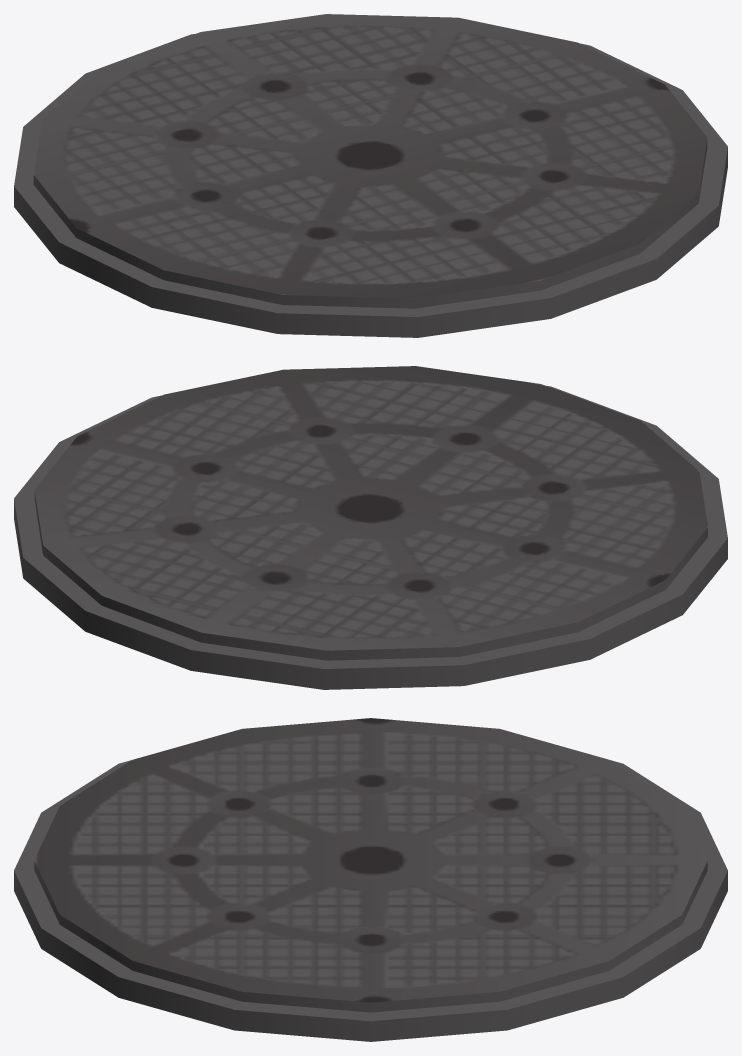
The model's file is obj_manhole_closed.fbx.
3 renders of one model, top to bottom at view 1: azimuth 30°, elevation 25°; view 2: azimuth 150°, elevation 25°; view 3: azimuth 270°, elevation 25°, orthographic.
Parts seen in each view (by area): view 1: obj_manhole_closed; view 2: obj_manhole_closed; view 3: obj_manhole_closed.
Part boxes in pixels (x1=…): obj_manhole_closed: x1=14, y1=14, x2=727, y2=337; obj_manhole_closed: x1=14, y1=366, x2=727, y2=689; obj_manhole_closed: x1=14, y1=718, x2=727, y2=1041.
Size of the model in its own units: 2.55 by 0.1205 by 2.55.
1 material, 1 textured.
